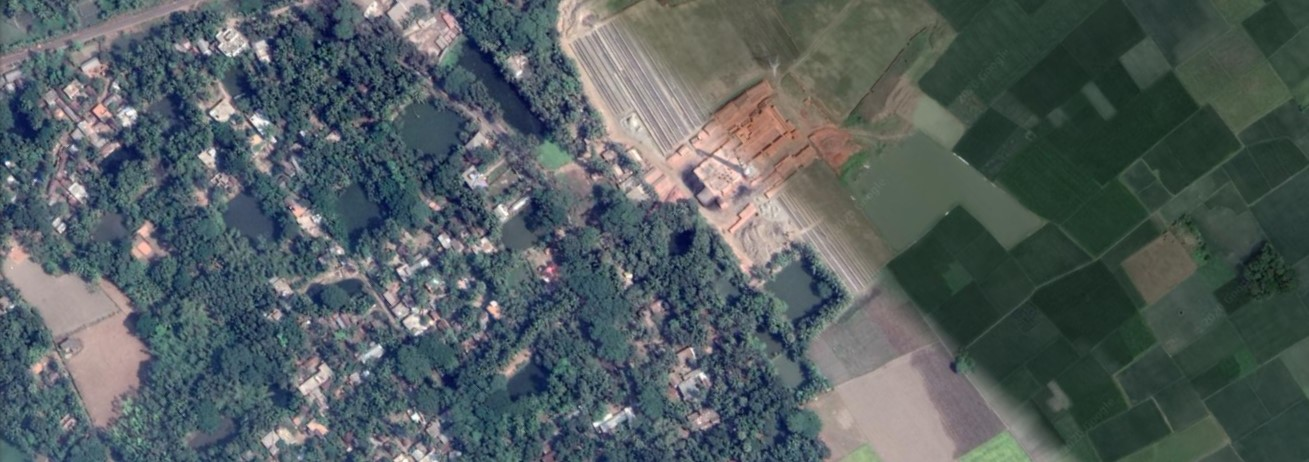kiln: (687, 134, 803, 195)
